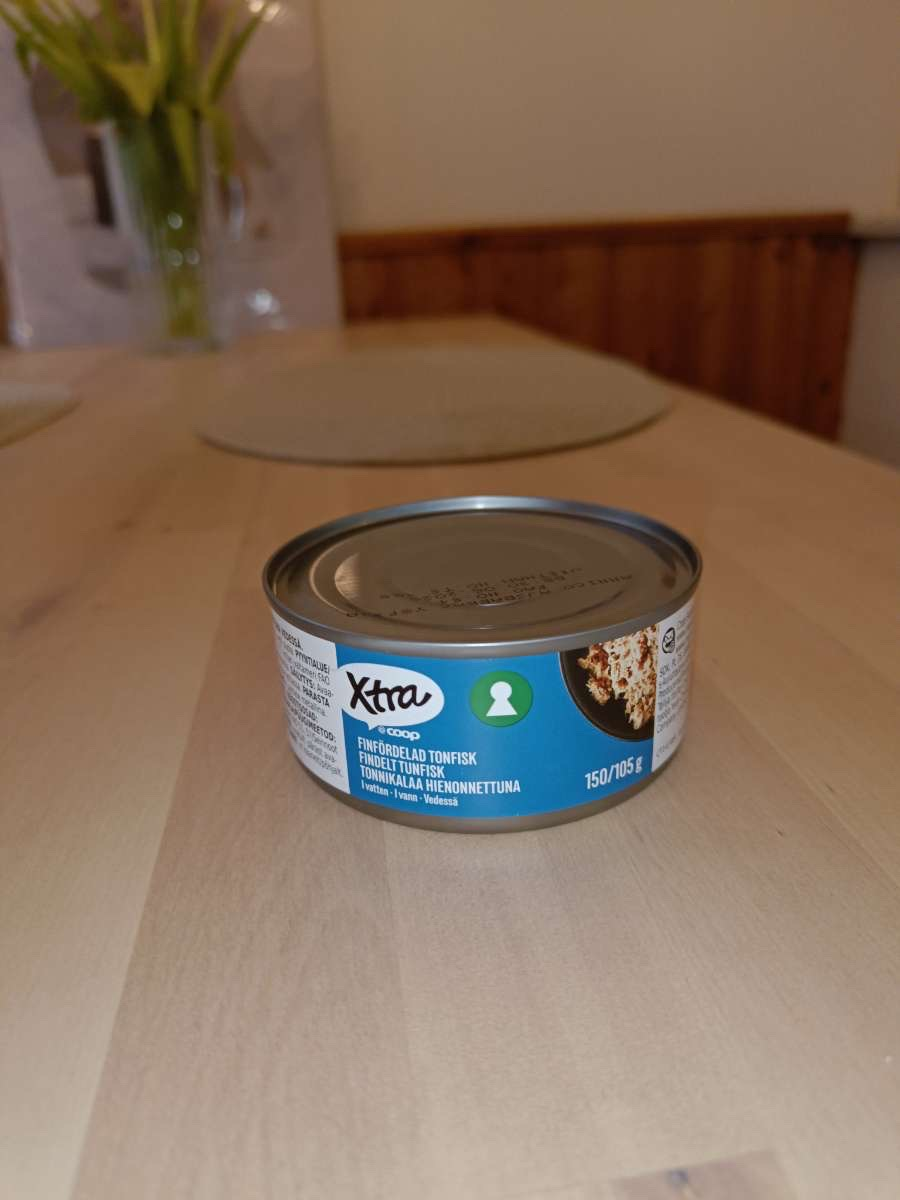Konservburk: (241, 493, 746, 822)
